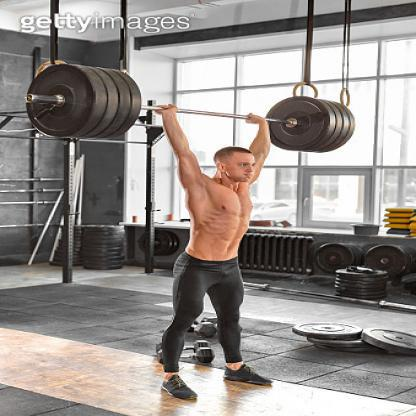Barbell: (23, 60, 108, 143)
